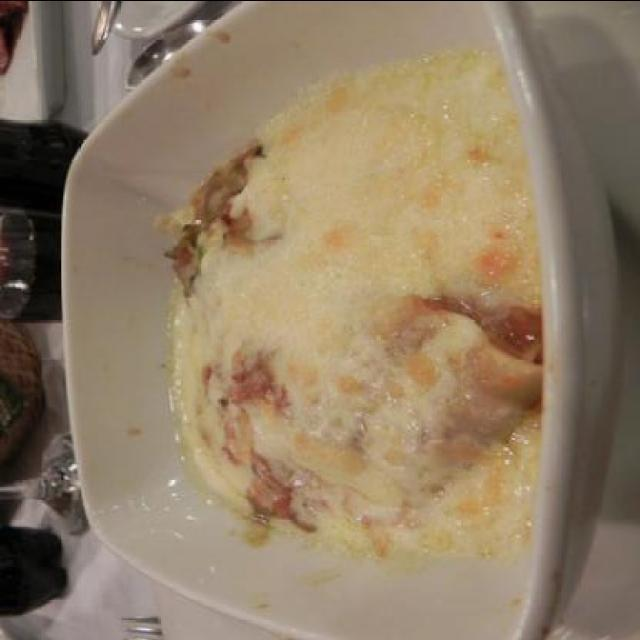Lasagna: (168, 73, 546, 525)
